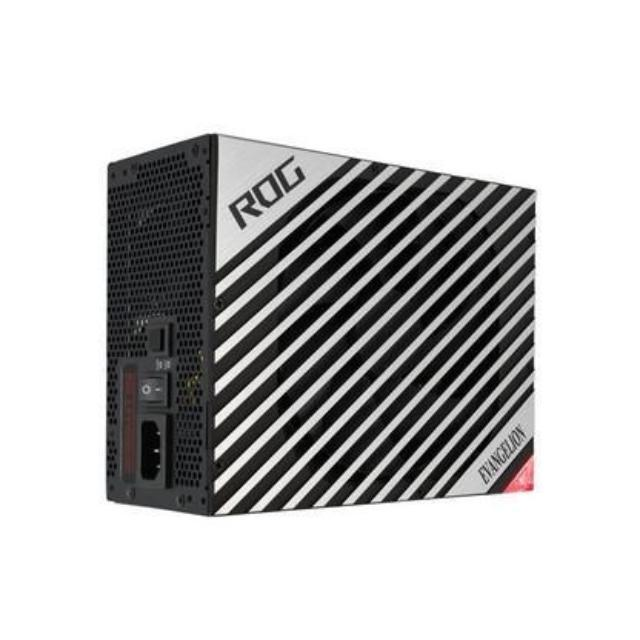PSU: (89, 120, 556, 525)
